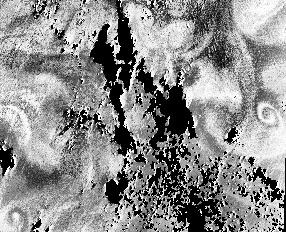CE: (255, 101, 282, 125), (6, 204, 30, 225)
